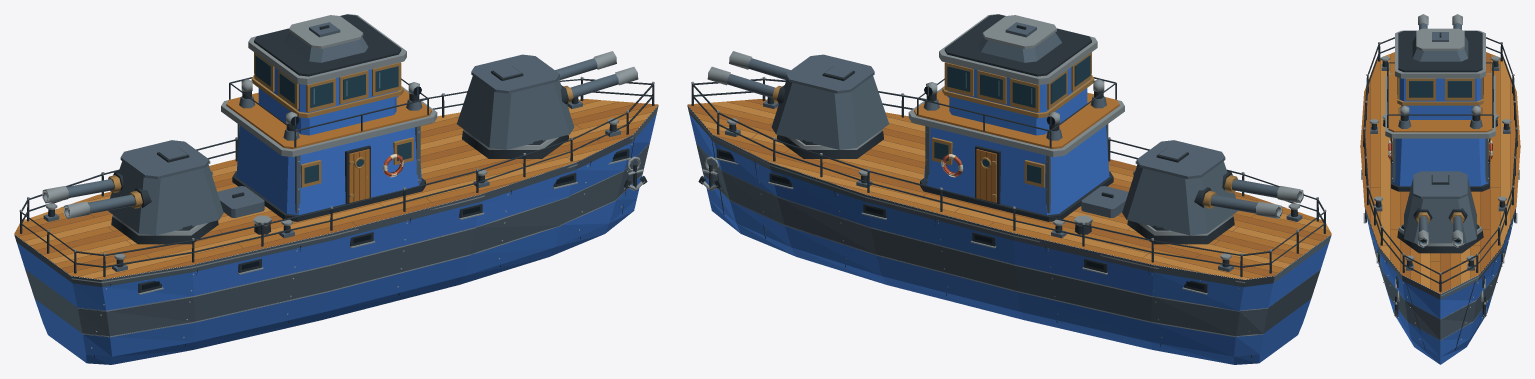
The picture shows the model from 3 angles, left to right: view 1: azimuth 30°, elevation 25°; view 2: azimuth 150°, elevation 25°; view 3: azimuth 270°, elevation 25°; orthographic projection. The views are drawn at different scales.
Parts seen in each view (by area): view 1: 海军巡洋舰; view 2: 海军巡洋舰; view 3: 海军巡洋舰.
Boxes of the visible parts, x1,y1,x2,y2 form: 海军巡洋舰: (14,14,658,364); 海军巡洋舰: (687,14,1331,364); 海军巡洋舰: (1360,14,1520,364).
Bounding box in the file's own units: 2 × 0.807 × 0.56.
